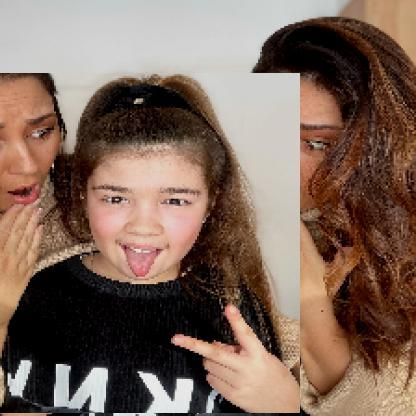child: (1, 74, 302, 415)
